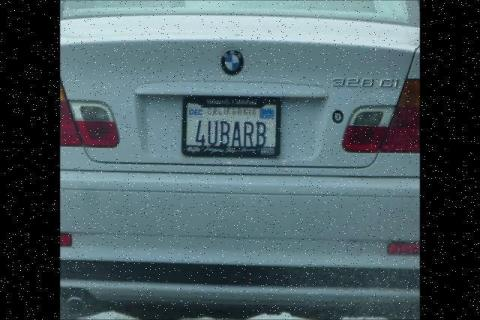LicensePlate: (181, 101, 279, 163)
